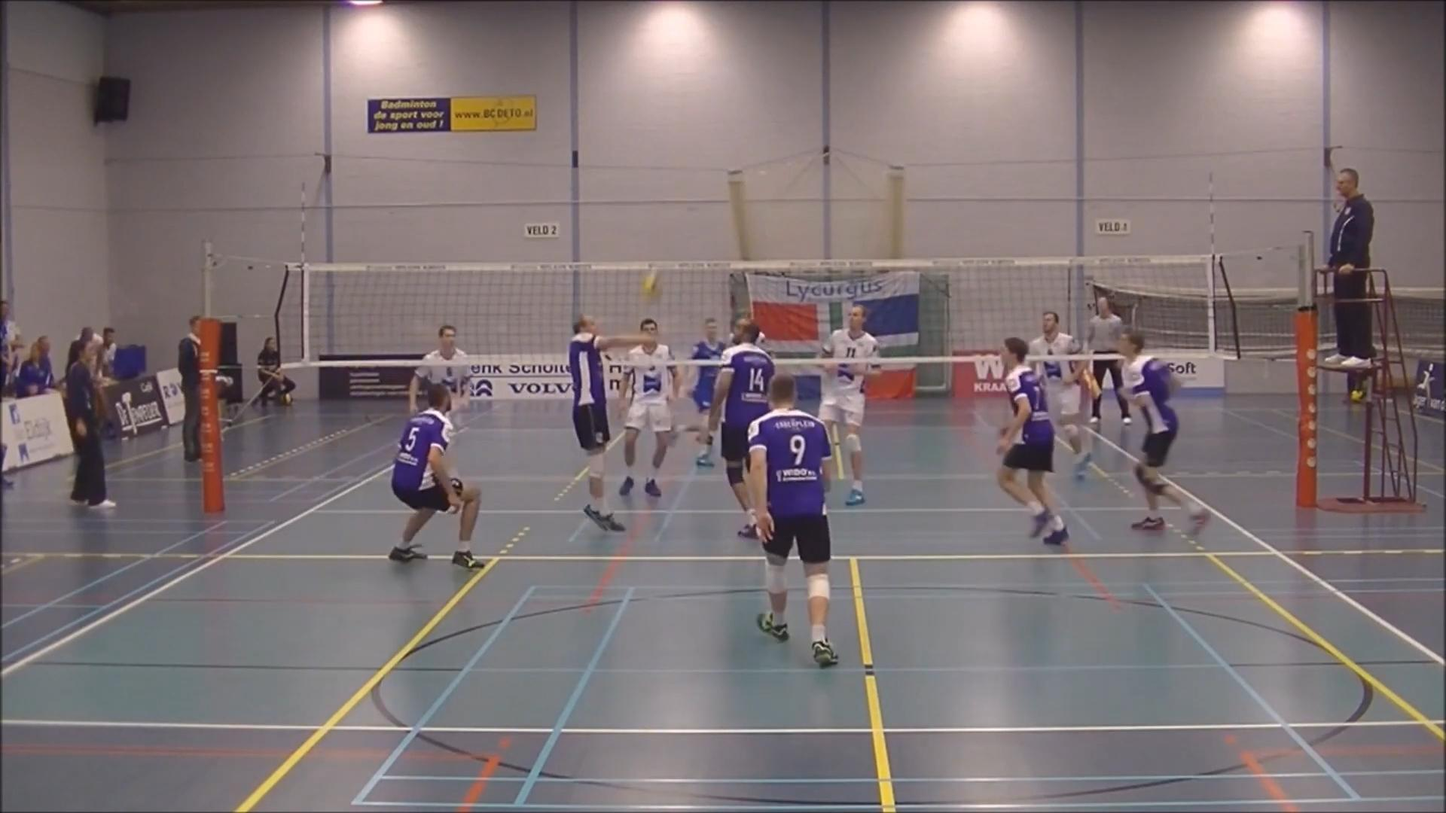Player: (546, 305, 671, 541), (747, 373, 837, 666), (1117, 331, 1208, 530), (389, 385, 483, 569), (700, 318, 773, 538), (997, 337, 1067, 544), (818, 305, 879, 506), (619, 318, 680, 497), (1030, 311, 1091, 479), (409, 324, 470, 413), (689, 365, 716, 431)
ball: (640, 271, 661, 298)
